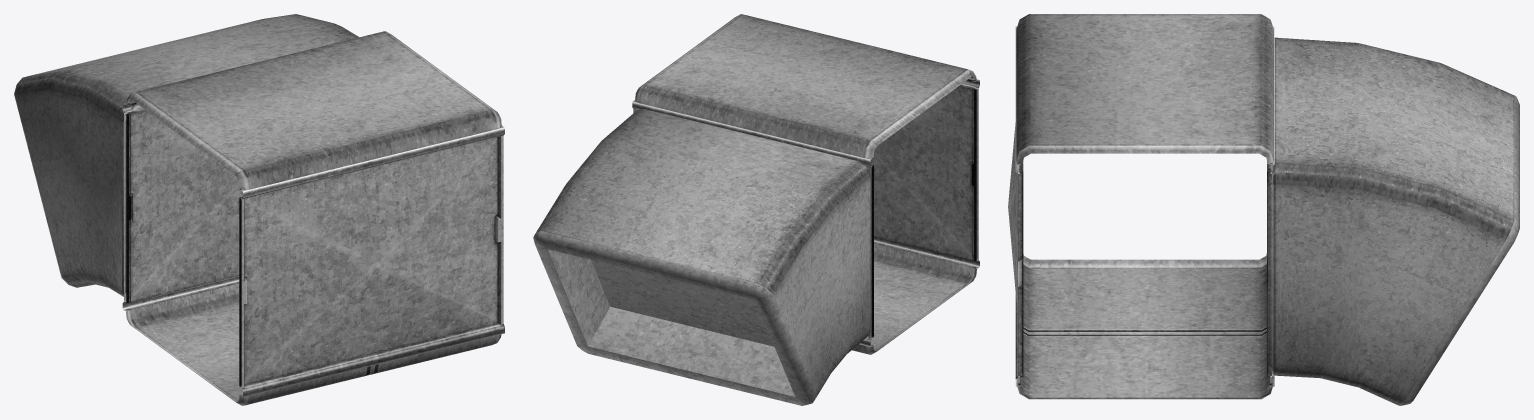
Rendered from vent_shaft_exterior_straight_vent_side.dae.
3 views of the same model, side by side, from view 1: azimuth 30°, elevation 25°; view 2: azimuth 150°, elevation 25°; view 3: azimuth 270°, elevation 25° (orthographic). The views are drawn at different scales.
Visible parts, largest first — view 1: straight_vent_side__2_; view 2: straight_vent_side__2_; view 3: straight_vent_side__2_.
Part boxes in pixels (x1=…): straight_vent_side__2_: x1=14, y1=14, x2=504, y2=405; straight_vent_side__2_: x1=533, y1=14, x2=979, y2=405; straight_vent_side__2_: x1=1008, y1=14, x2=1519, y2=405.
Bounding box in the file's own units: 2 × 1.78 × 3.14.
